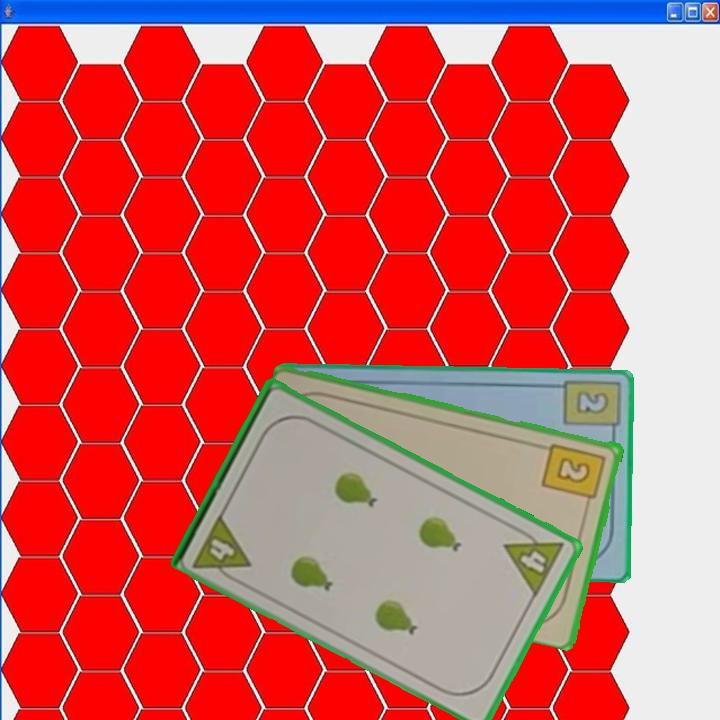2b: (539, 439, 609, 510), (560, 376, 622, 442)
4p: (500, 521, 568, 599), (189, 509, 254, 587)
